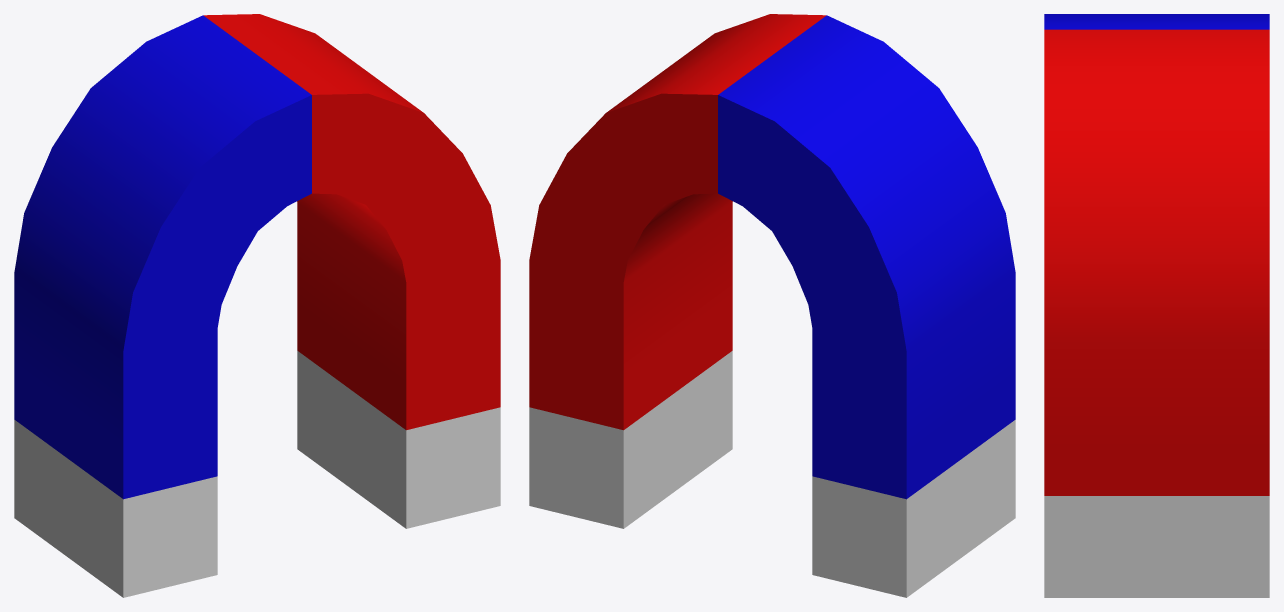
Rendered from magnet.fbx.
The picture shows the model from 3 angles, left to right: view 1: azimuth 30°, elevation 25°; view 2: azimuth 150°, elevation 25°; view 3: azimuth 270°, elevation 25°; orthographic projection. The views are drawn at different scales.
Visible parts, largest first — view 1: Cube; view 2: Cube; view 3: Cube.
Boxes of the visible parts, bbox=[...] form: Cube: bbox=[14, 14, 500, 597]; Cube: bbox=[529, 14, 1015, 597]; Cube: bbox=[1044, 14, 1269, 597].
Bounding box in the file's own units: 800 × 926 × 400.
